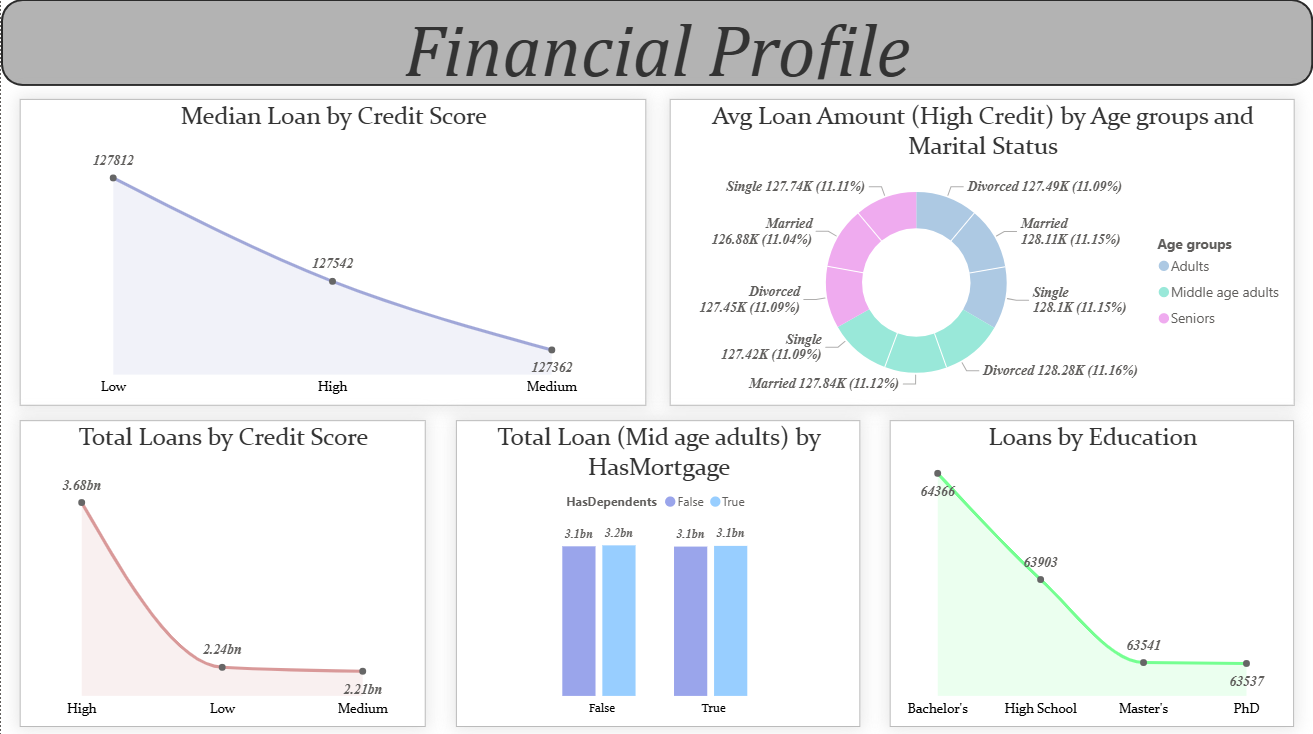

This screenshot's page, from the dashboard's own definition file:
{"tool":"powerbi","page":{"name":"Page 2","canvas":[1280,720],"ordinal":1},"visuals":[{"type":"shape","title":"Financial Profile","box":[0,0,1280.2,84.9],"z":0},{"type":"lineChart","title":"Median Loan by Credit Score","fields":{"Category":["Loan_default.Credit Score Bins"],"Y":["Measures Table 2.Median by Credit Score Bins"]},"box":[18.6,97.7,611.1,299.3],"z":1000},{"type":"donutChart","title":"Avg Loan Amount (High Credit) by Age groups and Marital Status","fields":{"Y":["Measures Table 2.Avg Loan Amnt (High Credit)"],"Series":["Loan_default.MaritalStatus"],"Category":["Loan_default.Age groups"]},"box":[651.9,97.7,609.8,299.3],"z":2000},{"type":"lineChart","title":"Total Loans by Credit Score","fields":{"Y":["Measures Table 2.Total Sum (Credit Bins)"],"Category":["Loan_default.Credit Score Bins"]},"box":[18.6,410.7,395.8,299.3],"z":3000},{"type":"clusteredColumnChart","title":"Total Loan (Mid age adults) by HasMortgage ","fields":{"Y":["Measures Table 2.Total Loan (Mid age adults)"],"Category":["Loan_default.HasMortgage"],"Series":["Loan_default.HasDependents"]},"box":[443.4,410.7,394.6,299.3],"z":4000},{"type":"lineChart","title":"Loans by Education","fields":{"Y":["Measures Table 2.Loans by Education"],"Category":["Loan_default.Education"]},"box":[867.1,410.7,394.6,299.3],"z":5000}]}

Visuals, with their boxes in screenshot pixels (x1, y1, x2, y2), scaled from the page's 1280x720 canvas onto the 1313x734 screenshot:
"Financial Profile" shape: <box>0,0,1312,87</box>
"Median Loan by Credit Score" lineChart: <box>19,100,646,405</box>
"Avg Loan Amount (High Credit) by Age groups and Marital Status" donutChart: <box>669,100,1294,405</box>
"Total Loans by Credit Score" lineChart: <box>19,419,425,724</box>
"Total Loan (Mid age adults) by HasMortgage " clusteredColumnChart: <box>455,419,860,724</box>
"Loans by Education" lineChart: <box>889,419,1294,724</box>
